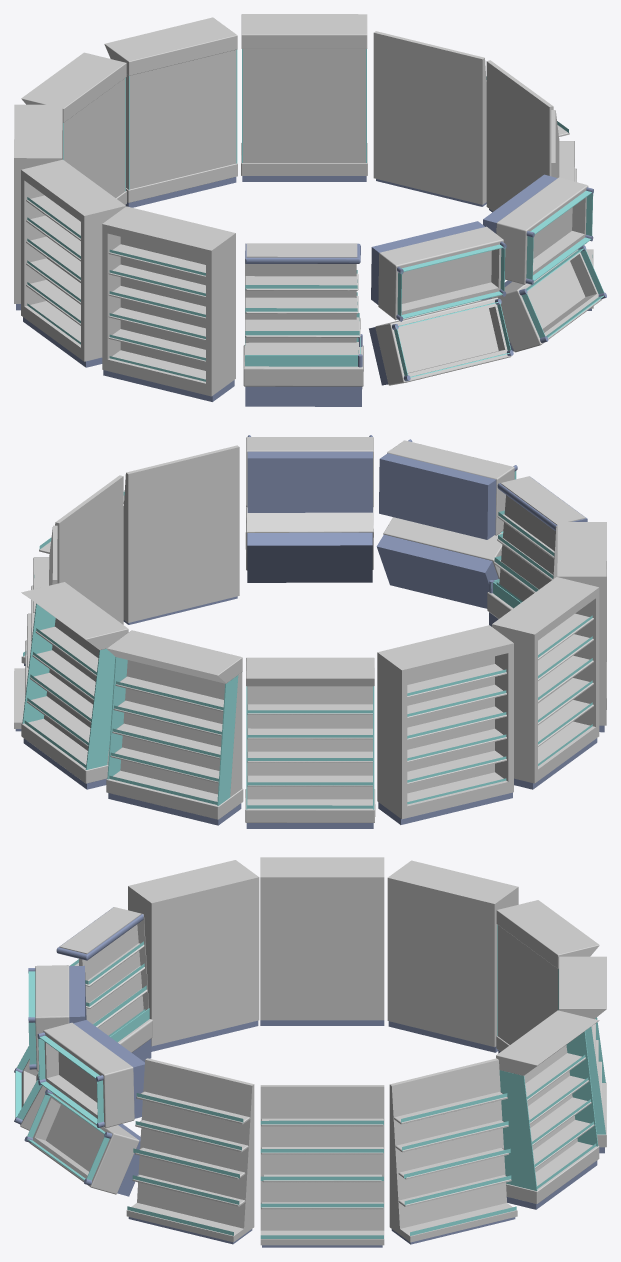
File: hew12.glb
3 renders of one model, top to bottom at view 1: azimuth 30°, elevation 25°; view 2: azimuth 150°, elevation 25°; view 3: azimuth 270°, elevation 25°, orthographic. The views are drawn at different scales.
Visible parts, largest first — view 1: Cube.015, Cube.044, Cube.172, Cube.088, Cube.053, Cube.003, Cube.054, Cube.074, Cube.032, Cube.061, Cube.009, Cube.177 (+29 smaller); view 2: Cube.021, Cube.037, Cube.061, Cube.053, Cube.088, Cube.031, Cube.002, Cube.074, Cube.008, Cube.046, Cube.044, Cube.071 (+40 smaller); view 3: Cube.053, Cube.044, Cube.037, Cube.074, Cube.015, Cube.021, Cube.032, Cube.009, Cube.061, Cube.154, Cube.071, Cube.172 (+36 smaller).
Part boxes in pixels (box(x1,y1,x2,y2)): Cube.015: box(373, 31, 486, 204); Cube.044: box(102, 206, 235, 396); Cube.172: box(241, 49, 367, 175); Cube.088: box(126, 50, 237, 202); Cube.053: box(21, 159, 125, 361); Cube.003: box(378, 226, 503, 320); Cube.054: box(375, 297, 511, 385); Cube.074: box(486, 60, 586, 243); Cube.032: box(496, 177, 588, 284); Cube.061: box(62, 78, 126, 204); Cube.009: box(491, 249, 602, 352); Cube.177: box(241, 14, 367, 48); Cube.021: box(123, 445, 239, 622); Cube.037: box(377, 625, 513, 819); Cube.061: box(245, 686, 375, 822); Cube.053: box(492, 577, 599, 783); Cube.088: box(106, 660, 243, 819); Cube.031: box(247, 451, 372, 512); Cube.002: box(379, 453, 496, 539); Cube.074: box(21, 475, 123, 663); Cube.008: box(247, 532, 372, 582); Cube.046: box(376, 534, 498, 608); Cube.044: box(557, 522, 606, 725); Cube.071: box(246, 657, 374, 686); Cube.053: box(260, 857, 384, 1020); Cube.044: box(128, 860, 259, 1046); Cube.037: box(387, 860, 518, 1047); Cube.074: box(260, 1085, 384, 1245); Cube.015: box(389, 1058, 517, 1242); Cube.021: box(126, 1058, 254, 1242); Cube.032: box(43, 1022, 134, 1127); Cube.009: box(29, 1093, 139, 1194); Cube.061: box(496, 925, 557, 1051); Cube.154: box(79, 924, 143, 1035); Cube.071: box(496, 900, 599, 968); Cube.172: box(506, 1045, 599, 1203).
Size of the model in its own units: 6 by 1.75 by 6.25.
